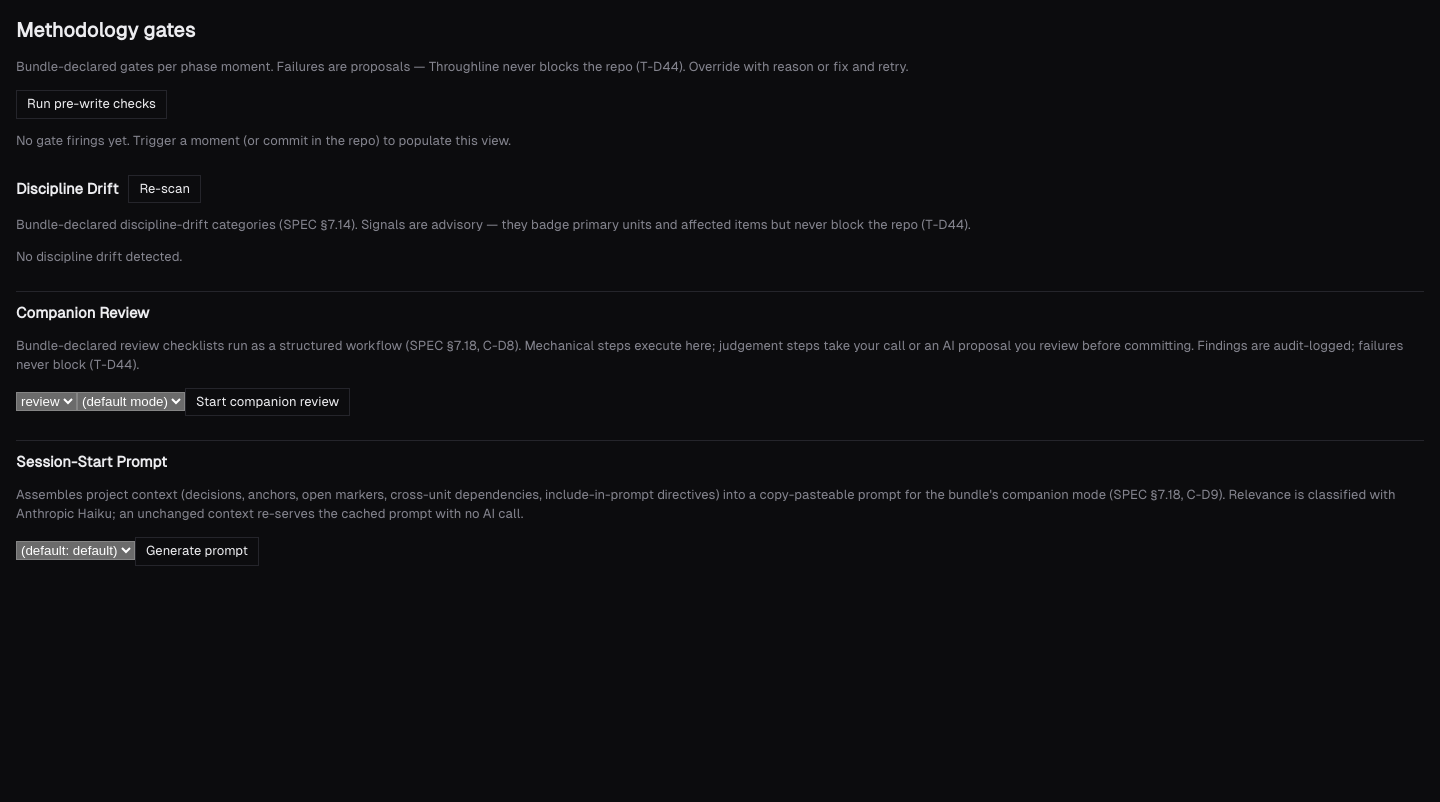
Phase 8 — methodology-gates view › Phase 12 — companion review surface starts a run and renders steps (C-D8)
Expected: the element with test id "companion-review" is shown, top-left (16, 291), bottom-right (1424, 416)
Step 1. Click the button with test id "companion-start" showing "Start companion review" → x=268, y=402, box top-left (185, 388), bottom-right (350, 416)
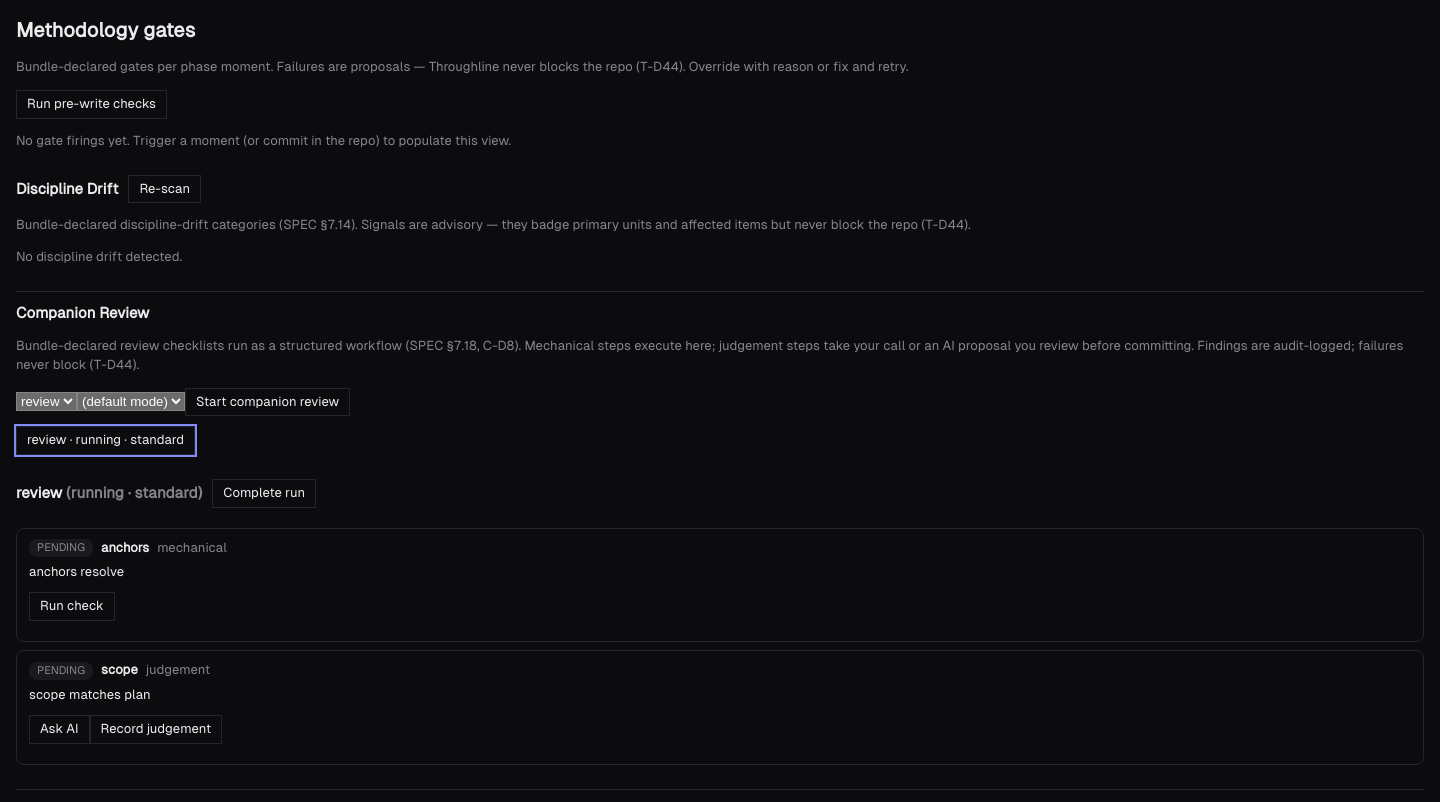
Expected: the element with test id "companion-step-anchors" is shown, top-left (16, 528), bottom-right (1424, 642)
Expected: the button with test id "companion-run-step-anchors" is shown, top-left (29, 592), bottom-right (115, 621)
Expected: the button with test id "companion-ai-judge-scope" is shown, top-left (29, 715), bottom-right (90, 744)
